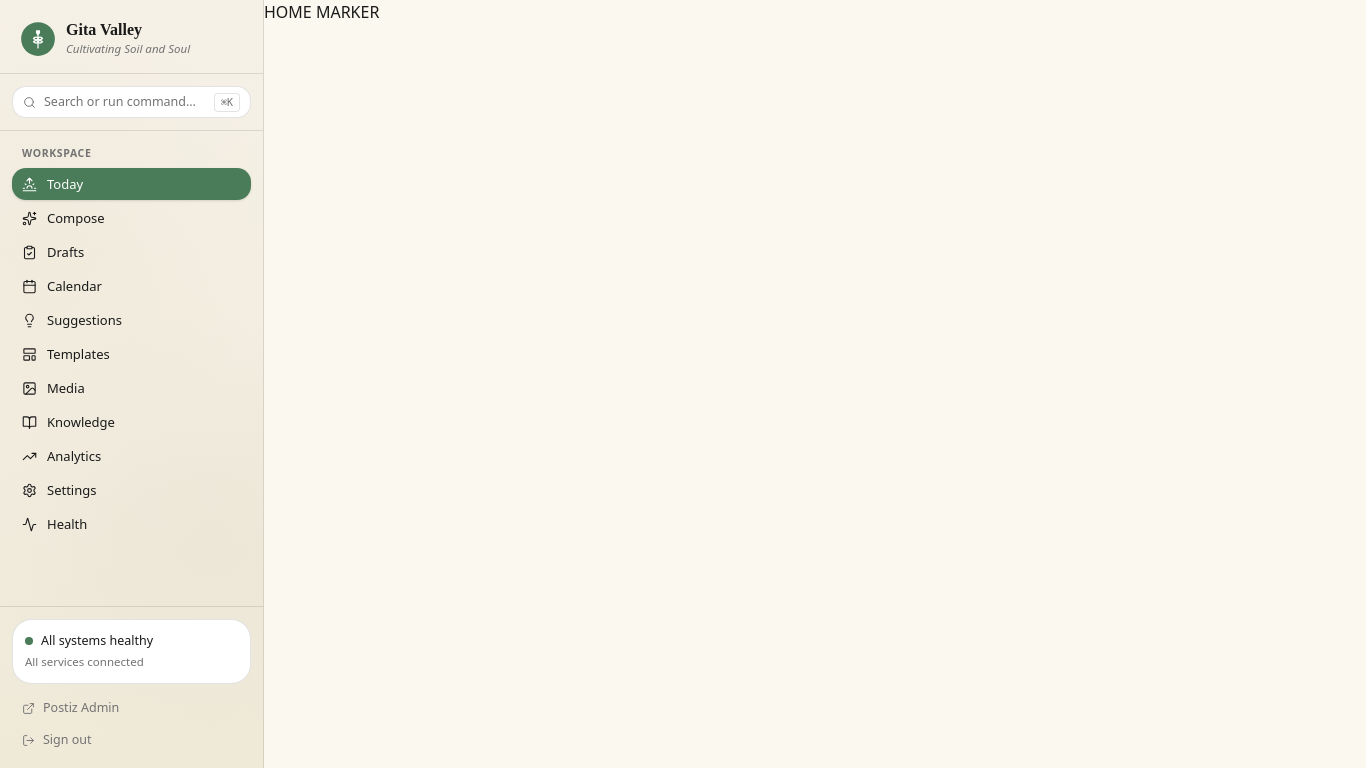
Test case: Command palette › opens from the sidebar search button
Click the button "Search or run command… ⌘K": (132, 102) [12,86,251,118]
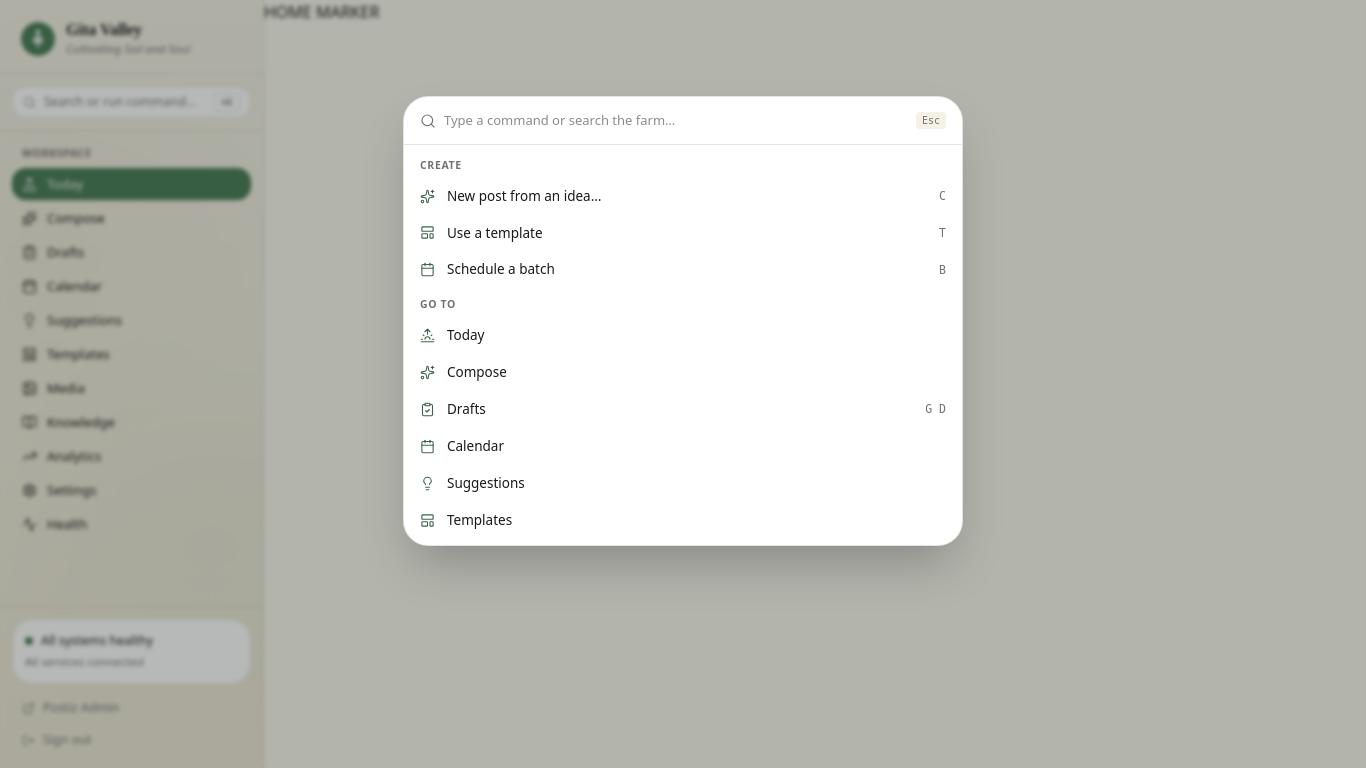
Now the dialog is shown, box [403,96,963,546]
